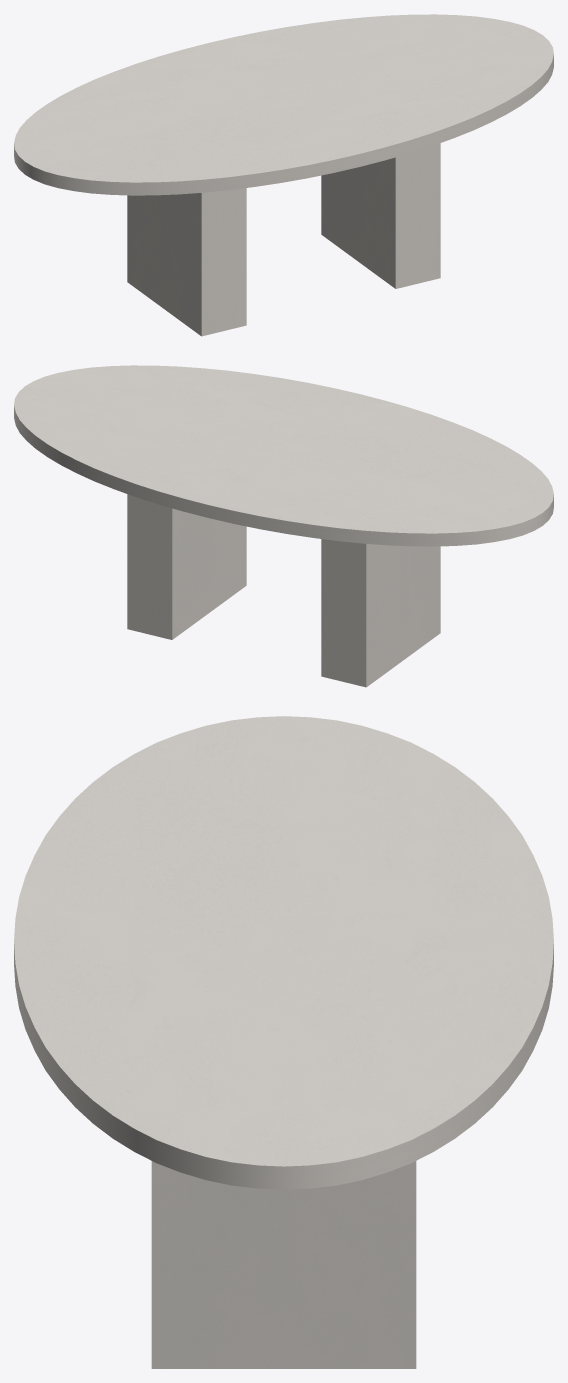
Rendered from pearlwhite_ellips_standard_ridge.glb.
The picture shows the model from 3 angles, top to bottom: view 1: azimuth 30°, elevation 25°; view 2: azimuth 150°, elevation 25°; view 3: azimuth 270°, elevation 25°; orthographic projection. The views are drawn at different scales.
Parts seen in each view (by area): view 1: pearlwhite_ellipsstandard_ridge; view 2: pearlwhite_ellipsstandard_ridge; view 3: pearlwhite_ellipsstandard_ridge.
Part boxes in pixels (x1,y1,x2,y2): pearlwhite_ellipsstandard_ridge: [14, 14, 553, 336]; pearlwhite_ellipsstandard_ridge: [14, 365, 553, 687]; pearlwhite_ellipsstandard_ridge: [14, 716, 553, 1368].
Bounding box in the file's own units: 7.5 × 2.51 × 3.8.
1 material, 1 textured.
